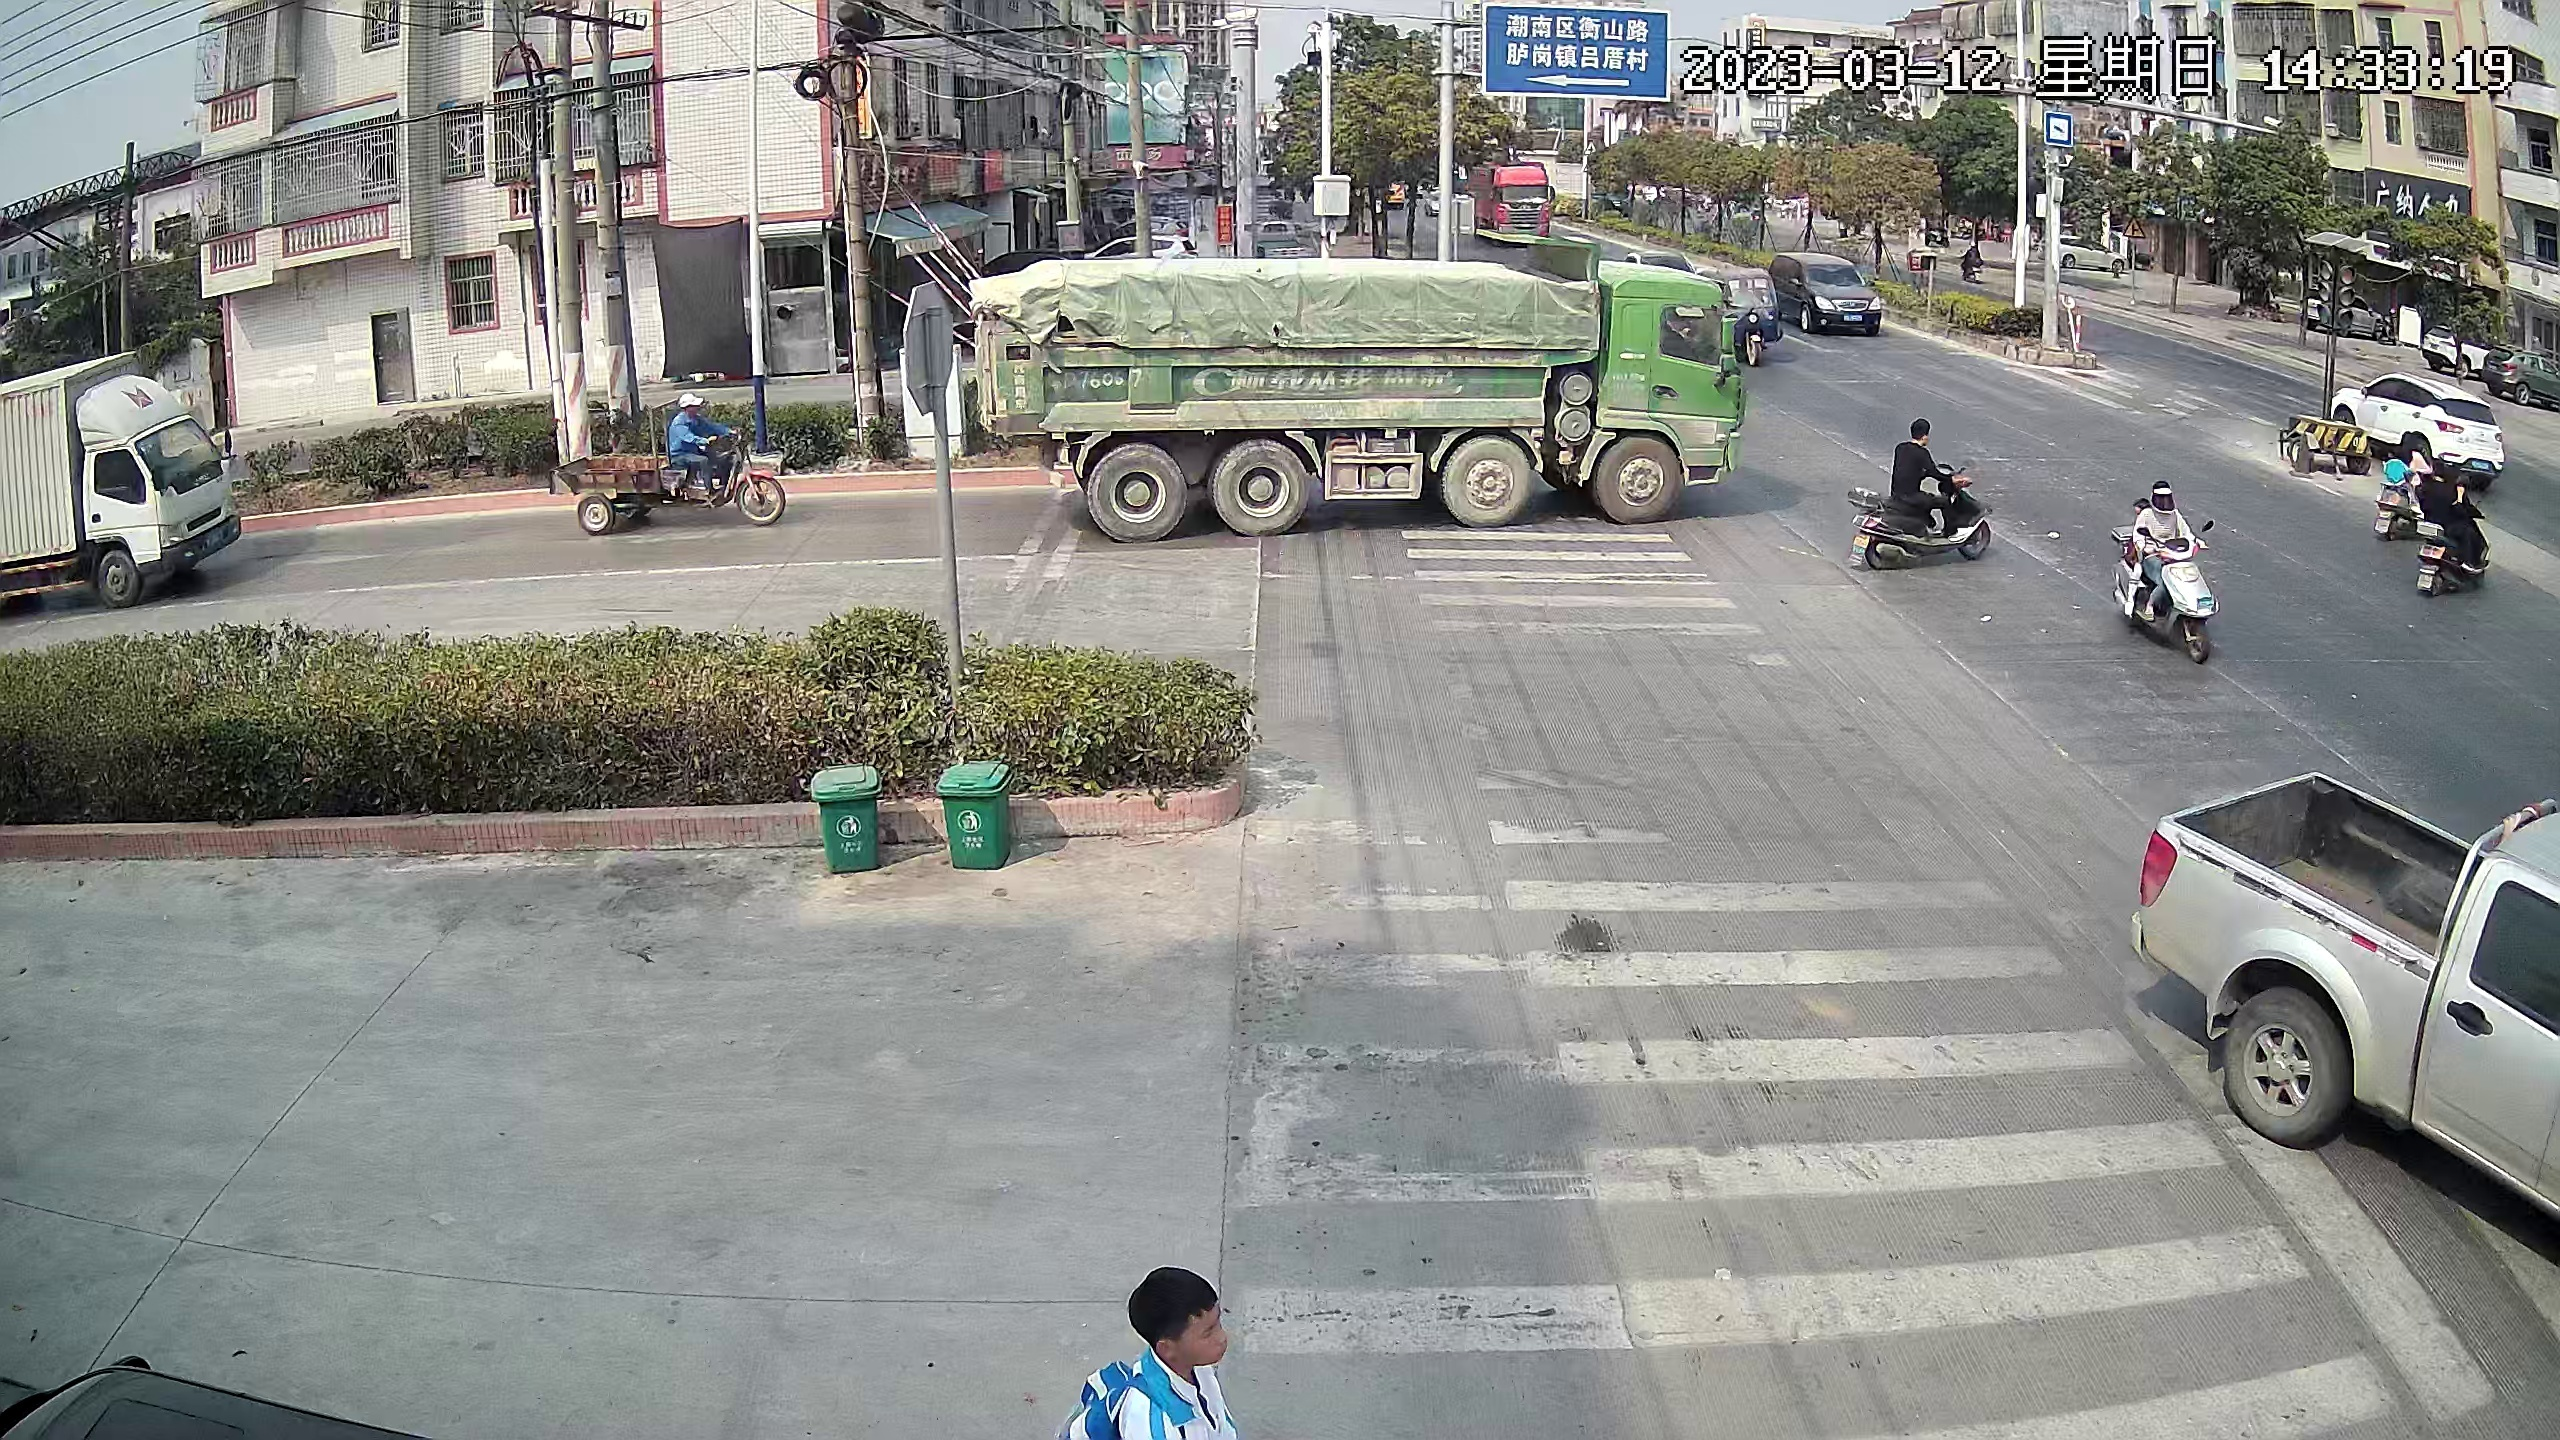head: (1050, 1242, 1252, 1440)
motorcycle: (1844, 409, 2002, 574), (2108, 467, 2239, 667), (2428, 465, 2489, 604), (2373, 432, 2423, 542), (1952, 238, 1985, 289)
person: (1900, 418, 1965, 545), (669, 394, 733, 498), (2144, 473, 2194, 579)
pickup: (2133, 734, 2560, 1230)
sedan: (2048, 225, 2129, 288), (2299, 289, 2383, 344), (2493, 344, 2560, 408), (2420, 324, 2492, 377), (1247, 218, 1305, 252)
suv: (2329, 369, 2505, 480), (1787, 249, 1888, 339)
tricycle: (557, 397, 787, 530), (1718, 258, 1782, 374)
truck: (969, 248, 1750, 523), (1, 358, 245, 600), (1474, 153, 1557, 257)
